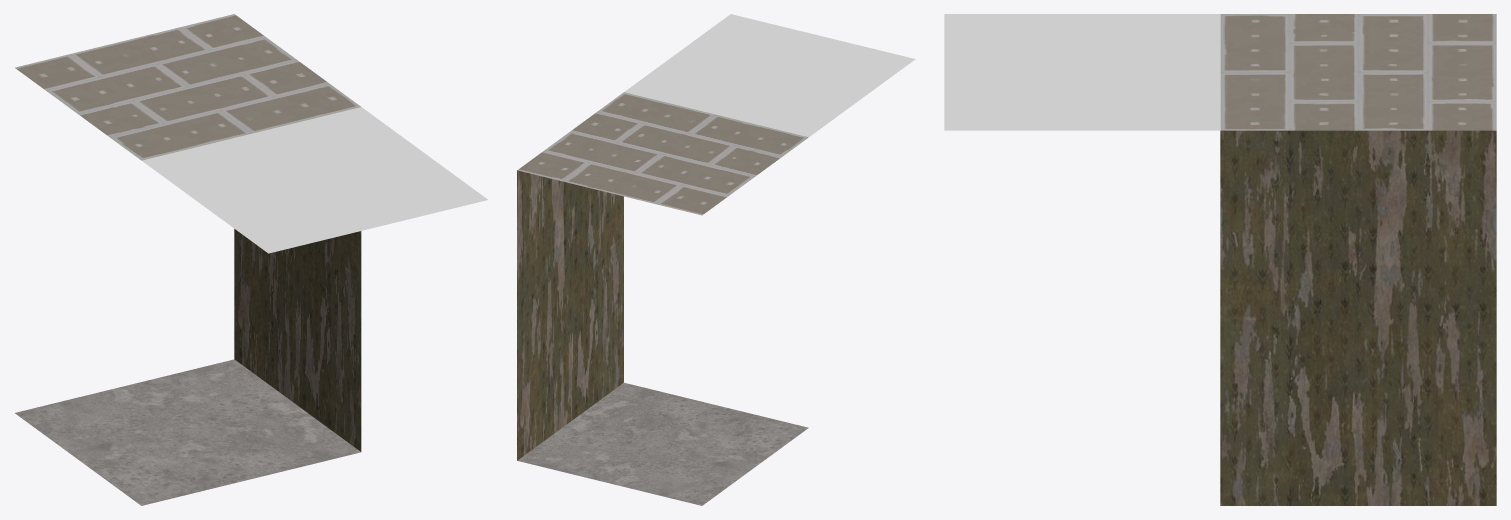
Rendered from back.fbx.
3 views of the same model, side by side, from view 1: azimuth 30°, elevation 25°; view 2: azimuth 150°, elevation 25°; view 3: azimuth 270°, elevation 25° (orthographic). The views are drawn at different scales.
Visible parts, largest first — view 1: Plane.001, Plane.002, Plane.003, Plane; view 2: Plane, Plane.002, Plane.001, Plane.003; view 3: Plane, Plane.002, Plane.003.
Part boxes in pixels (x1,y1,x2,y2): Plane.001: (15, 359, 360, 505); Plane.002: (15, 14, 360, 160); Plane.003: (142, 107, 487, 253); Plane: (234, 229, 361, 451); Plane: (517, 170, 623, 460); Plane.002: (517, 92, 808, 215); Plane.001: (517, 382, 808, 505); Plane.003: (624, 14, 915, 137); Plane: (1220, 130, 1496, 505); Plane.002: (1220, 14, 1496, 130); Plane.003: (944, 14, 1220, 130).
Size of the model in its own units: 400 by 600 by 800.
